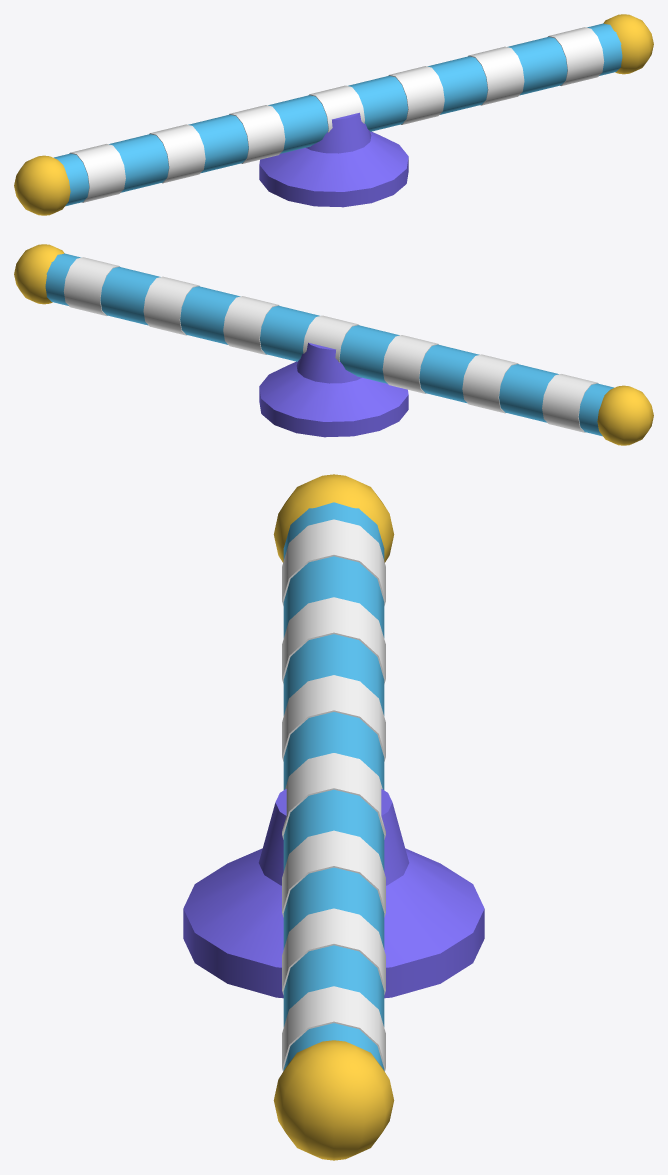
File: spinner.glb
The picture shows the model from 3 angles, top to bottom: view 1: azimuth 30°, elevation 25°; view 2: azimuth 150°, elevation 25°; view 3: azimuth 270°, elevation 25°; orthographic projection. The views are drawn at different scales.
Visible parts, largest first — view 1: Bar, spinner; view 2: Bar, spinner; view 3: Bar, spinner.
Part boxes in pixels (x1,y1,x2,y2): Bar: [14, 14, 653, 215]; spinner: [259, 112, 408, 207]; Bar: [14, 244, 653, 445]; spinner: [259, 342, 408, 437]; Bar: [273, 474, 394, 1160]; spinner: [183, 789, 484, 998].
Bounding box in the file's own units: 8.72 × 1.16 × 1.8.
